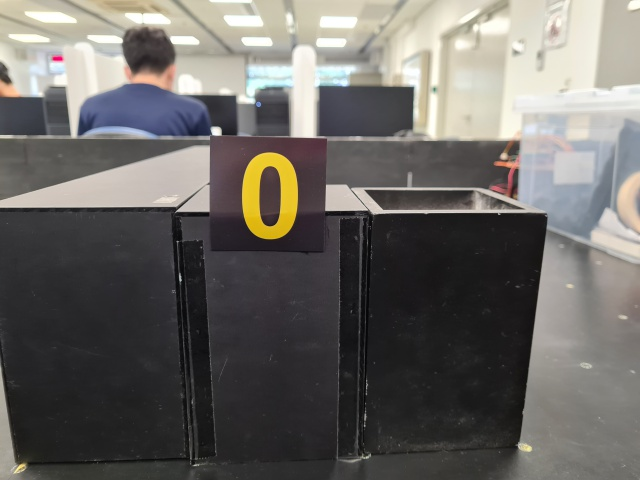zero: (207, 134, 328, 253)
